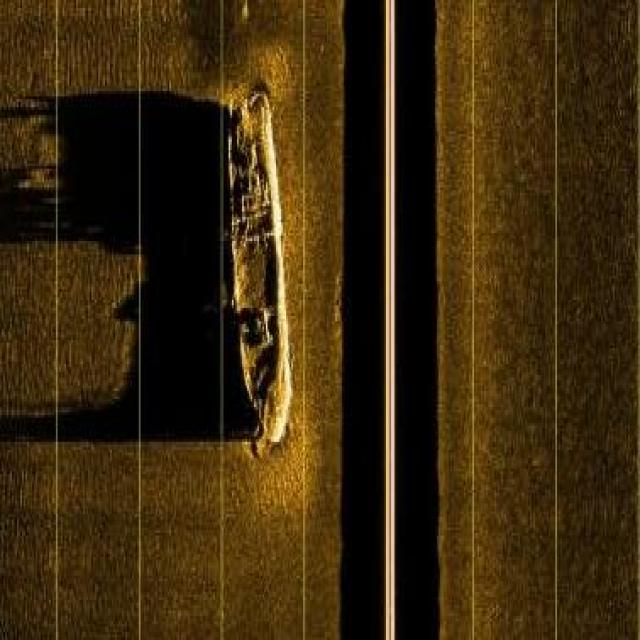ship: (225, 83, 296, 447)
